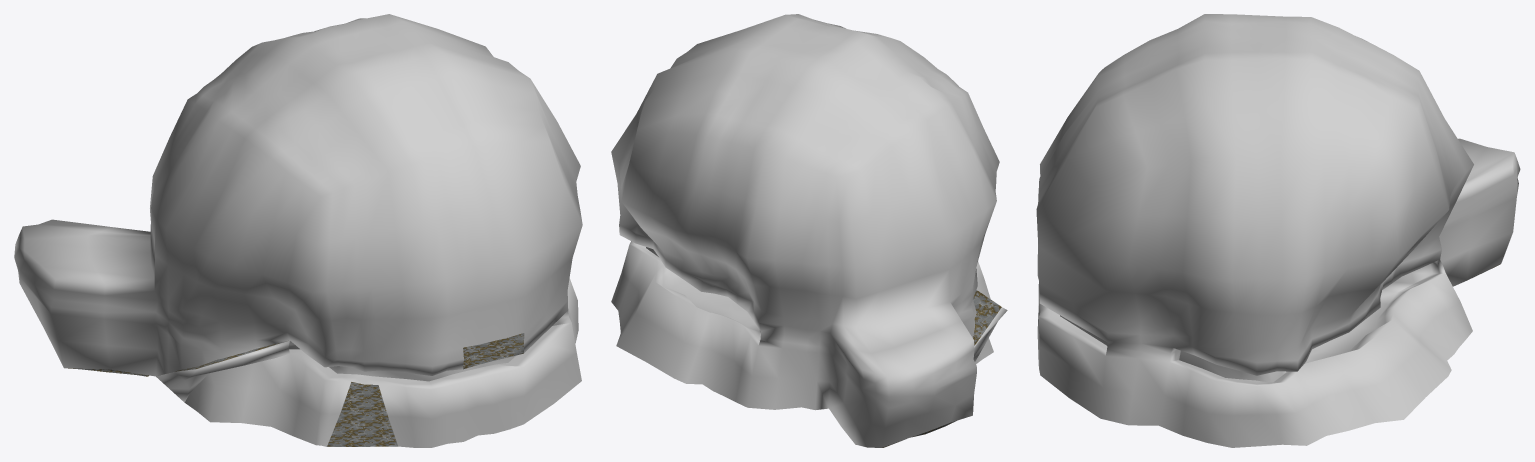
The model's file is LayeredMineLevel 1.fbx.
The picture shows the model from 3 angles, left to right: view 1: azimuth 30°, elevation 25°; view 2: azimuth 150°, elevation 25°; view 3: azimuth 270°, elevation 25°; orthographic projection. The views are drawn at different scales.
Parts seen in each view (by area): view 1: Roundcube.001; view 2: Roundcube.001; view 3: Roundcube.001.
Boxes of the visible parts, x1,y1,x2,y2 form: Roundcube.001: (14,14,582,447); Roundcube.001: (611,14,1007,447); Roundcube.001: (1036,14,1520,447).
Size of the model in its own units: 25318 by 17762 by 23649.
